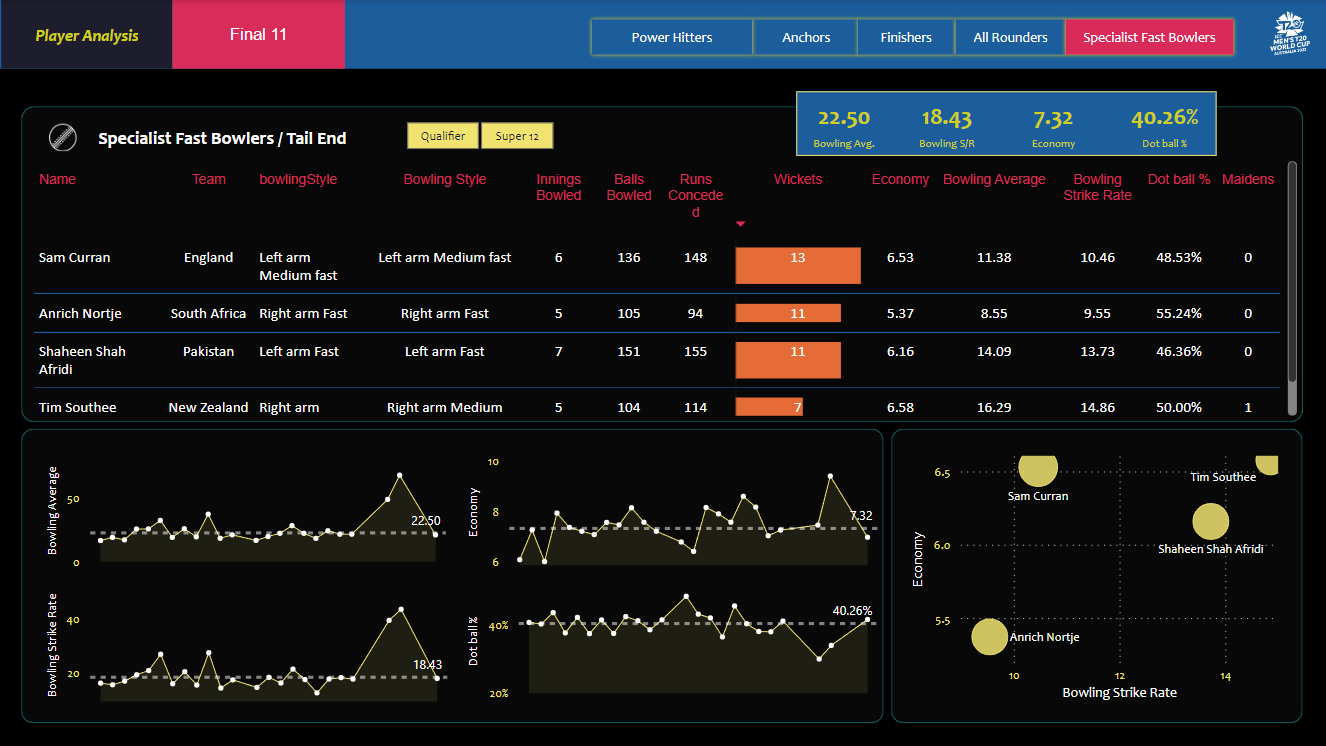

This screenshot's page, from the dashboard's own definition file:
{"tool":"powerbi","page":{"name":"New Specialist Fast Bowlers / Tail End","canvas":[1280,720],"ordinal":4},"visuals":[{"type":"shape","box":[0,66,1280,654],"z":0},{"type":"group","id":"g1","title":"Group 2","box":[83.8,116.2,260,31.2],"z":0,"group":"g2"},{"type":"shape","box":[83.8,116.2,260,31.2],"z":0,"group":"g1"},{"type":"image","box":[38,114,44,36],"z":1000,"group":"g2"},{"type":"shape","box":[21,414,832,284],"z":1000},{"type":"image","box":[1220,3,48,59],"z":2000},{"type":"shape","box":[860,414,397,284],"z":3000},{"type":"card","fields":{"Values":["Key_Measures.Bowling Strike Rate"]},"box":[867,89,93,60],"z":3500,"group":"g3"},{"type":"card","fields":{"Values":["Key_Measures.Bowling Average"]},"box":[768,89,92,60],"z":4000,"group":"g3"},{"type":"shape","box":[20,102.2,1236.7,304.4],"z":4000},{"type":"card","fields":{"Values":["Key_Measures.Dot ball %"]},"box":[1073,89,100,60],"z":4500,"group":"g3"},{"type":"card","fields":{"Values":["Key_Measures.Economy"]},"box":[966,89,101,60],"z":5000,"group":"g3"},{"type":"slicer","fields":{"Values":["dim_match_summary.stage"]},"box":[366.7,111.1,191.1,38.9],"z":5000},{"type":"tableEx","fields":{"Values":["dim_player.name","Min(dim_player.team)","dim_player.bowlingStyle","Min(dim_player.Bowling Style)","Key_Measures.Total Innings Bowled","Key_Measures.Balls Bowled","Key_Measures.Runs Conceded","Key_Measures.wickets","Key_Measures.Economy","Key_Measures.Bowling Average","Key_Measures.Bowling Strike Rate","Key_Measures.Dot ball %"]},"box":[26.5,150.8,1230.2,255.7],"z":6000},{"type":"shape","box":[768.2,88,405.2,62.7],"z":7000},{"type":"group","id":"g2","title":"Group 1","box":[38,114,305.8,36],"z":8000},{"type":"scatterChart","fields":{"Category":["dim_player.name"],"X":["Key_Measures.Bowling Strike Rate"],"Y":["Key_Measures.Economy"],"Size":["Key_Measures.wickets"]},"box":[874,427,370,253.8],"z":9000},{"type":"actionButton","title":"Button Player Ana selected","box":[1.4,0,165.1,66.6],"z":10000},{"type":"actionButton","title":"Button Player Ana selected","box":[166.5,0,166.5,66.6],"z":11000},{"type":"areaChart","fields":{"Category":["dim_match_summary.Match_Date.Variation.Date Hierarchy.Day"],"Y":["Key_Measures.Economy"]},"box":[446,430,406,126],"z":12000},{"type":"areaChart","fields":{"Category":["dim_match_summary.Match_Date.Variation.Date Hierarchy.Day"],"Y":["Key_Measures.Dot ball %"]},"box":[446,556,406,126],"z":13000},{"type":"areaChart","fields":{"Category":["dim_match_summary.Match_Date.Variation.Date Hierarchy.Day"],"Y":["Key_Measures.Bowling Average"]},"box":[40,428.9,395.6,126.7],"z":14000},{"type":"areaChart","fields":{"Category":["dim_match_summary.Match_Date.Variation.Date Hierarchy.Day"],"Y":["Key_Measures.Bowling Strike Rate"]},"box":[40,555.6,396.7,125.6],"z":15000},{"type":"group","id":"g3","title":"Combined Perfoamce Metrices","box":[768,89,405,60],"z":17000},{"type":"actionButton","title":"Button Player Ana selected","box":[166.4,0,166.4,66.3],"z":19000},{"type":"actionButton","box":[722.4,14.5,111,42.2],"z":20000},{"type":"actionButton","box":[566.8,14.5,162.8,42.2],"z":21000},{"type":"actionButton","box":[823.7,14.5,101.3,42.2],"z":22000},{"type":"actionButton","box":[917.8,14.5,114.6,42.2],"z":23000},{"type":"actionButton","box":[1023.9,14.5,170.1,42.2],"z":24000}]}

Visuals, with their boxes in screenshot pixels (x1, y1, x2, y2), scaled from the page's 1280x720 canvas onto the 1326x746 screenshot:
shape: 0:68:1325:745
"Group 2" group: 87:120:356:153
shape: 87:120:356:153
image: 39:118:85:155
shape: 22:429:884:723
image: 1264:3:1314:64
shape: 891:429:1302:723
card - Key_Measures.Bowling Strike Rate: 898:92:994:154
card - Key_Measures.Bowling Average: 796:92:891:154
shape: 21:106:1302:421
card - Key_Measures.Dot ball %: 1112:92:1215:154
card - Key_Measures.Economy: 1001:92:1105:154
slicer - dim_match_summary.stage: 380:115:578:155
tableEx - dim_player.name x Min(dim_player.team): 27:156:1302:421
shape: 796:91:1216:156
"Group 1" group: 39:118:356:155
scatterChart - dim_player.name x Key_Measures.Bowling Strike Rate: 905:442:1289:705
"Button Player Ana selected" actionButton: 1:0:172:69
"Button Player Ana selected" actionButton: 172:0:345:69
areaChart - dim_match_summary.Match_Date.Variation.Date Hierarchy.Day x Key_Measures.Economy: 462:446:883:576
areaChart - dim_match_summary.Match_Date.Variation.Date Hierarchy.Day x Key_Measures.Dot ball %: 462:576:883:707
areaChart - dim_match_summary.Match_Date.Variation.Date Hierarchy.Day x Key_Measures.Bowling Average: 41:444:451:576
areaChart - dim_match_summary.Match_Date.Variation.Date Hierarchy.Day x Key_Measures.Bowling Strike Rate: 41:576:452:706
"Combined Perfoamce Metrices" group: 796:92:1215:154
"Button Player Ana selected" actionButton: 172:0:345:69
actionButton: 748:15:863:59
actionButton: 587:15:756:59
actionButton: 853:15:958:59
actionButton: 951:15:1070:59
actionButton: 1061:15:1237:59
